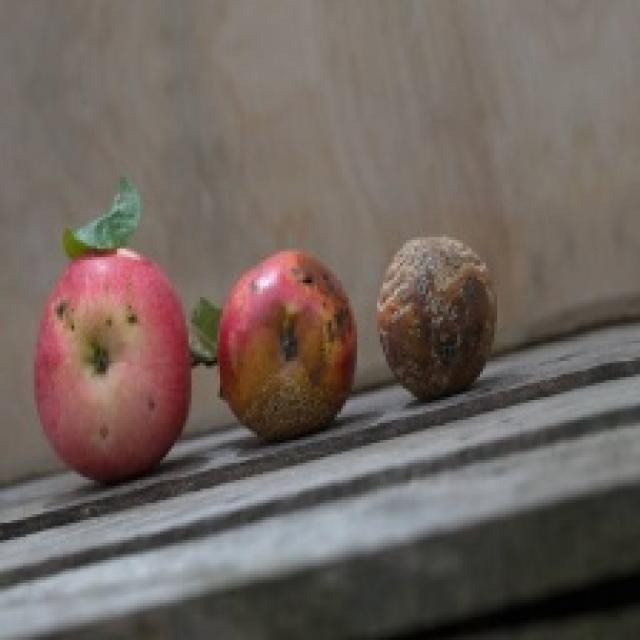rotten_apple: (43, 244, 188, 474), (222, 253, 356, 437), (380, 237, 494, 394)
